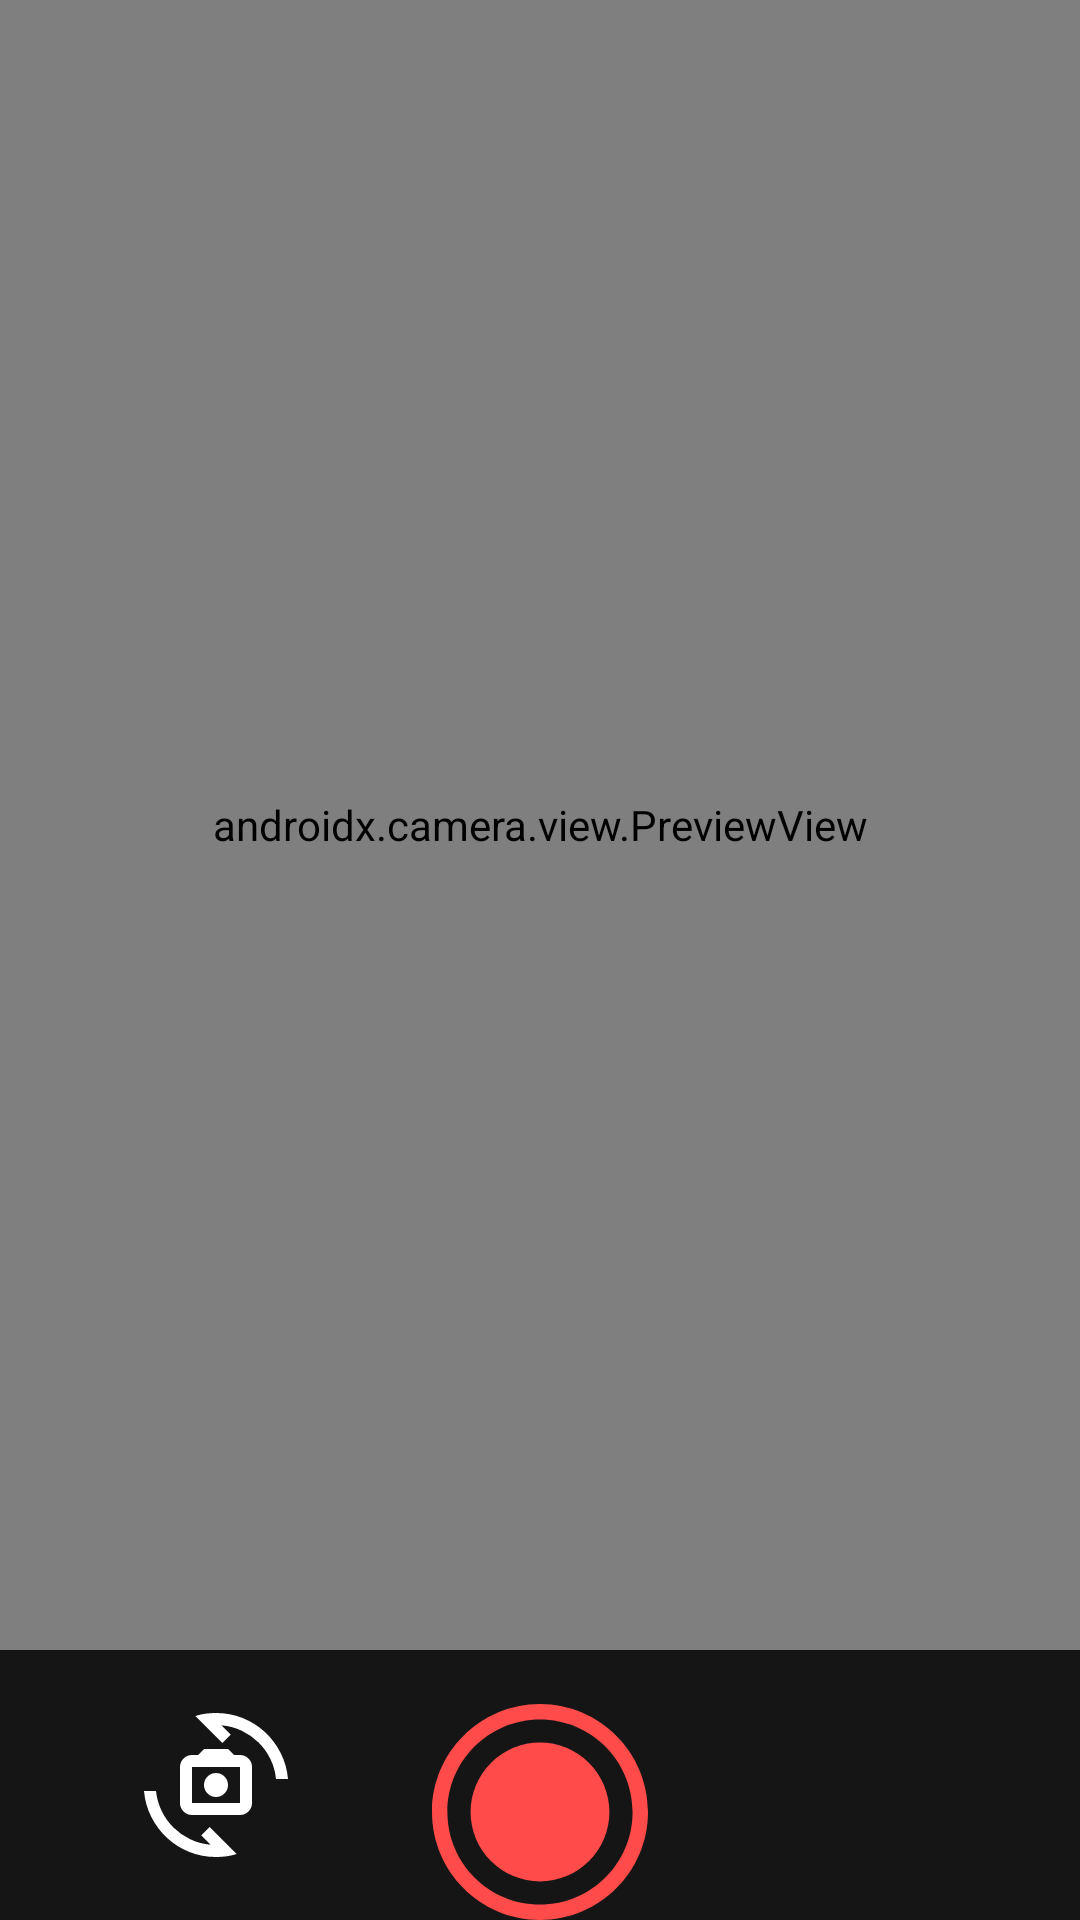

Point at icon controls on the screen. Image size 1080*1920, points as point (x, y).
start record: point (540, 1812)
Сменить камеру: point (216, 1785)
